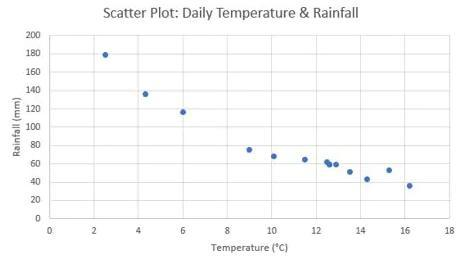axis: (46, 215, 452, 222), (46, 34, 53, 221)
point: (177, 106, 190, 117), (140, 89, 151, 99), (100, 51, 111, 60), (244, 145, 254, 154), (345, 167, 355, 176), (405, 180, 414, 190), (269, 152, 279, 160), (299, 155, 309, 163), (363, 175, 371, 184), (385, 166, 393, 175), (326, 160, 333, 168), (333, 161, 341, 168), (323, 158, 330, 165)
